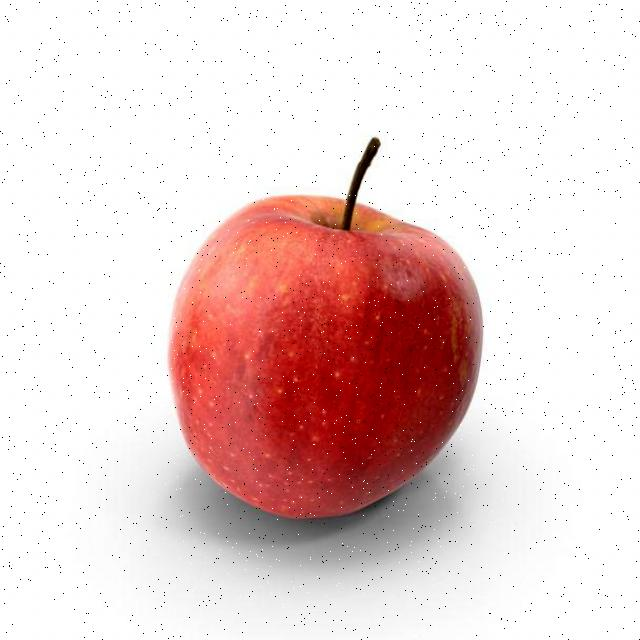HEALTHY: (134, 162, 506, 526)
